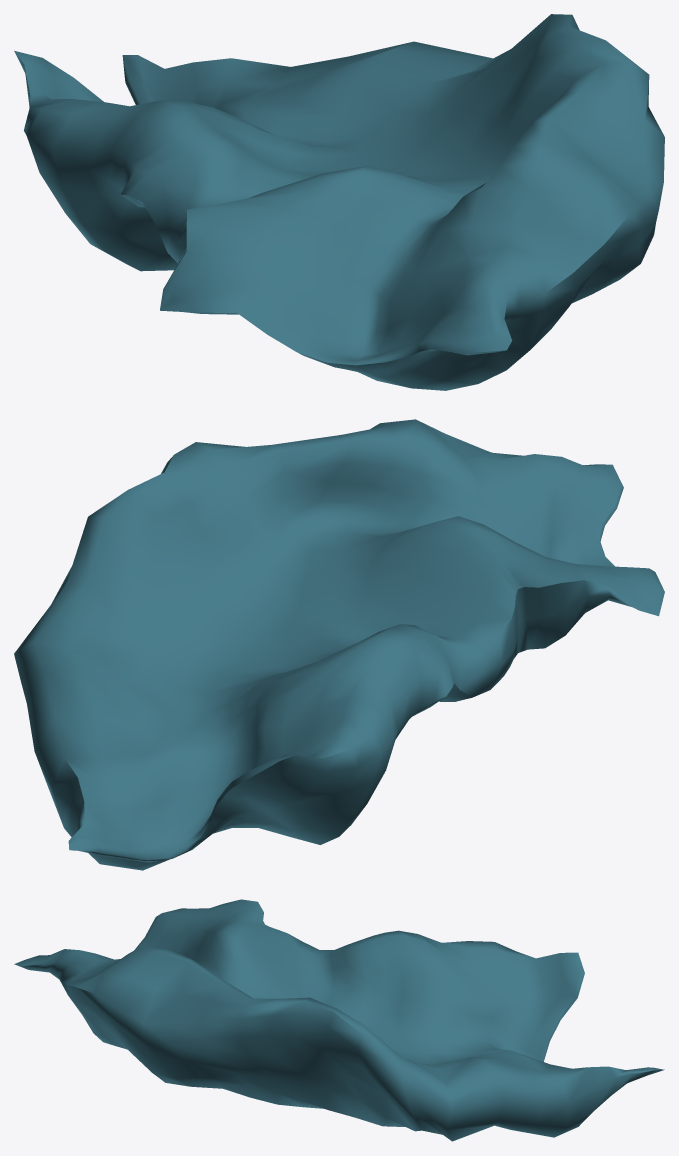
Rendered from SM_SmallTrashkit_snacks2_004.fbx.
3 views of the same model, one above another, from view 1: azimuth 30°, elevation 25°; view 2: azimuth 150°, elevation 25°; view 3: azimuth 270°, elevation 25° (orthographic). The views are drawn at different scales.
Parts seen in each view (by area): view 1: SM_SmallTrashkit_snacks2_004; view 2: SM_SmallTrashkit_snacks2_004; view 3: SM_SmallTrashkit_snacks2_004.
Part boxes in pixels (x1,y1,x2,y2): SM_SmallTrashkit_snacks2_004: (14,14,664,390); SM_SmallTrashkit_snacks2_004: (14,419,664,870); SM_SmallTrashkit_snacks2_004: (14,899,664,1141).
Bounding box in the file's own units: 26 × 12.63 × 41.32.
